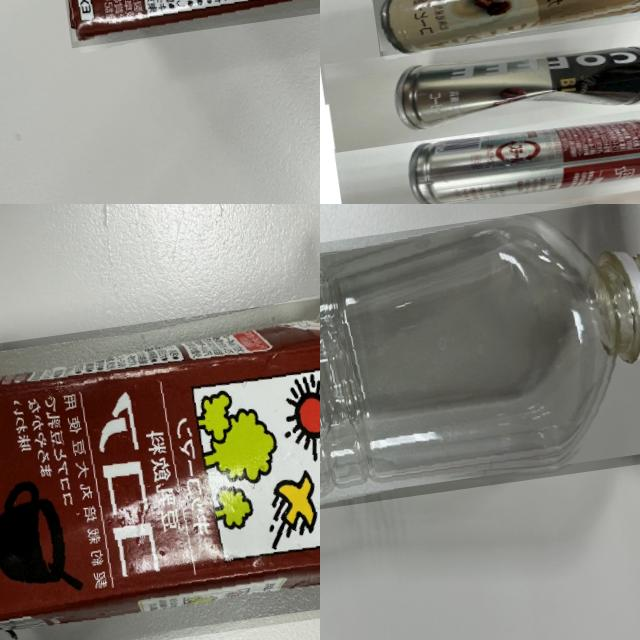Aluminium Foil: (0, 289, 320, 640), (46, 0, 320, 48)
Can: (383, 32, 640, 134), (405, 110, 640, 204), (368, 0, 640, 57)
Transparent Plastic Bottle: (320, 204, 640, 539)
